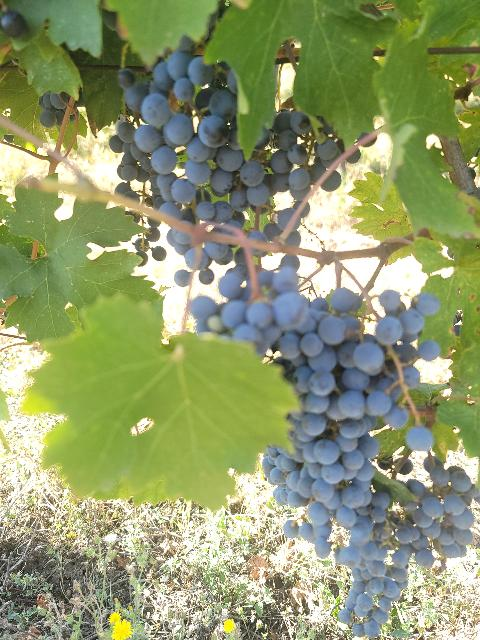grapes: (266, 289, 401, 510), (335, 490, 424, 639), (190, 264, 310, 354), (135, 90, 214, 205), (406, 455, 479, 568), (154, 49, 215, 104), (200, 88, 236, 146)
